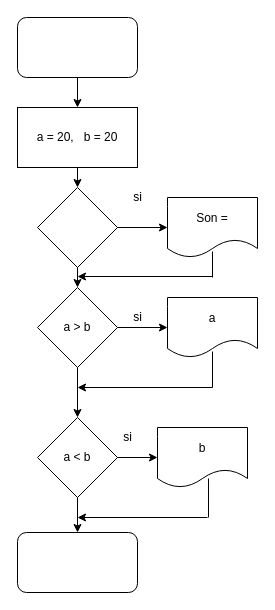
Some shapes in this 275 by 610 pixel diagram are drawn without their labels. The shapes that lost their labels are listed below. From the top down, each one's centre as x and y in pixels, then its label:
At [77,47]: "inicio".
At [77,227]: "a = b".
At [77,562]: "fin".
